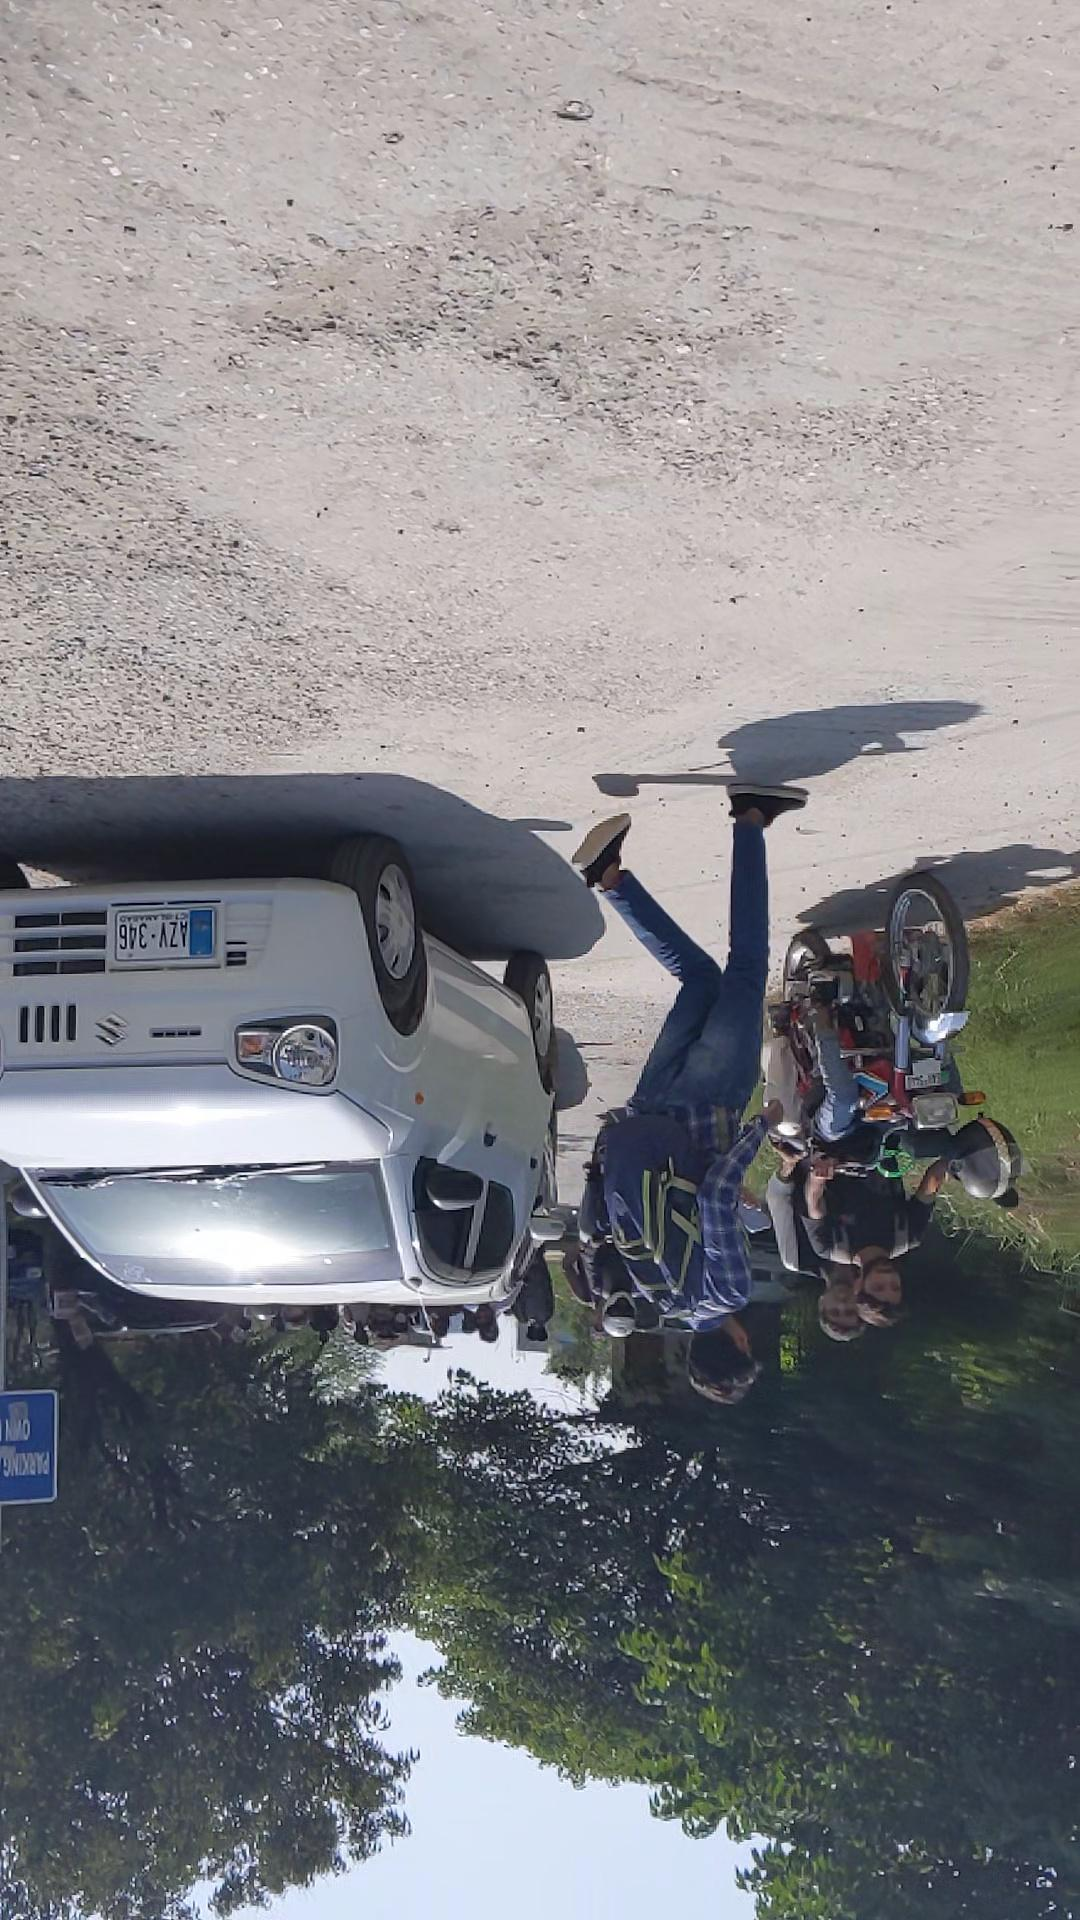windshield: (666, 630, 1056, 790)
